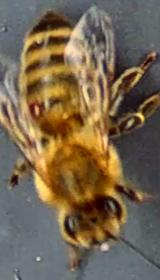varroa_mite: (21, 94, 51, 125)
